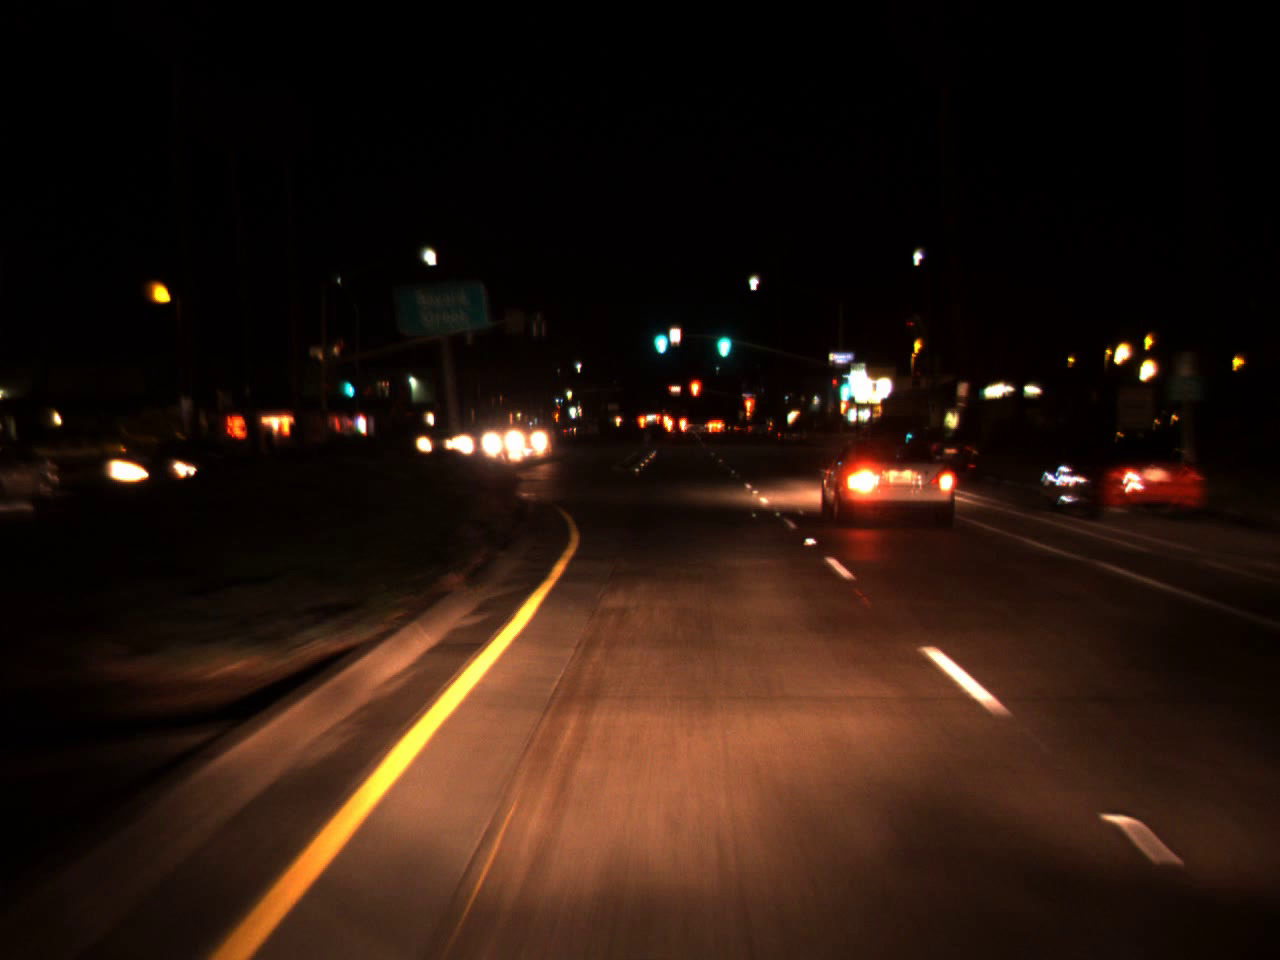go: (650, 312, 669, 360), (711, 318, 734, 357), (836, 369, 852, 402), (342, 366, 356, 402)
stop: (742, 395, 755, 427), (690, 380, 699, 412)
